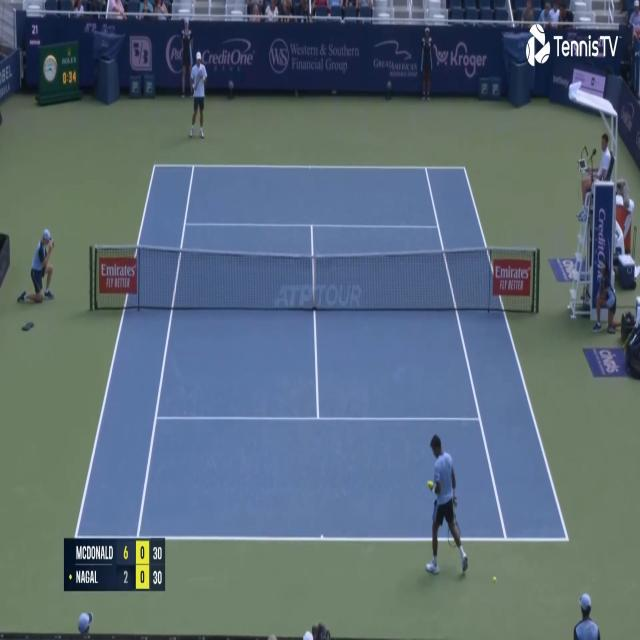tennis-player: (424, 431, 469, 582), (188, 49, 206, 141)
